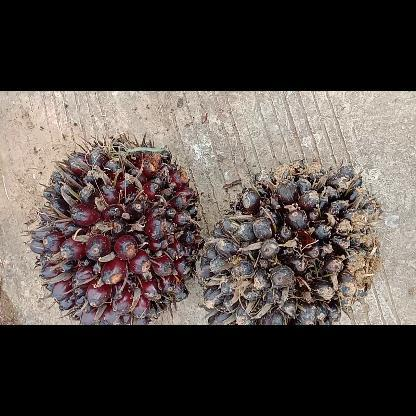TBS mentah: (26, 132, 206, 324), (195, 160, 386, 324)
